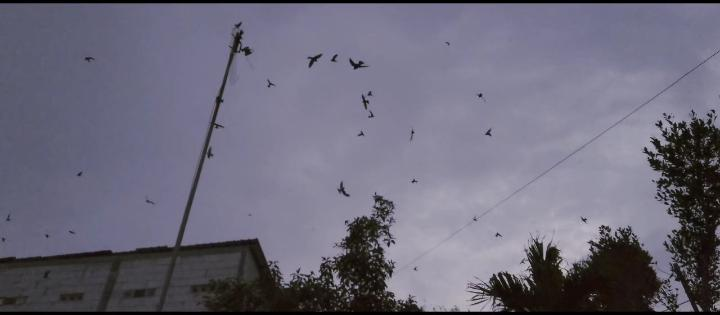walet: (349, 56, 369, 72), (336, 181, 352, 198), (308, 52, 324, 68), (206, 145, 218, 159), (360, 95, 371, 110), (266, 78, 278, 90), (474, 92, 486, 102), (486, 126, 492, 138), (83, 56, 95, 62), (580, 217, 590, 223), (495, 231, 503, 238)
